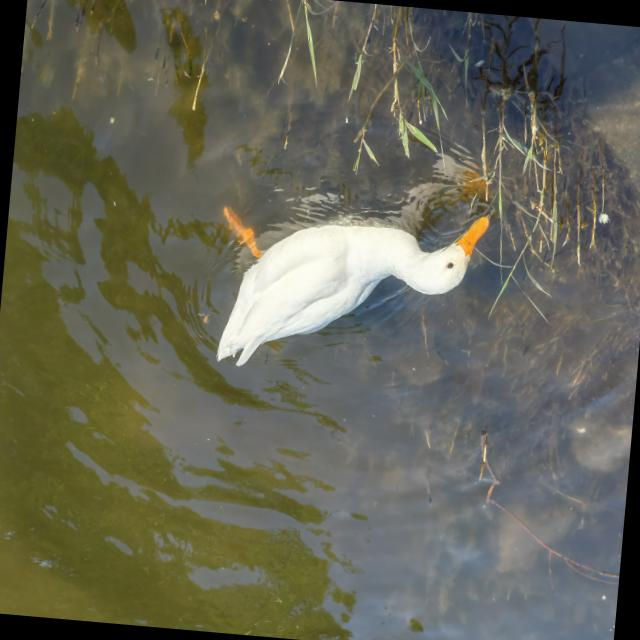duck: (202, 168, 494, 392)
